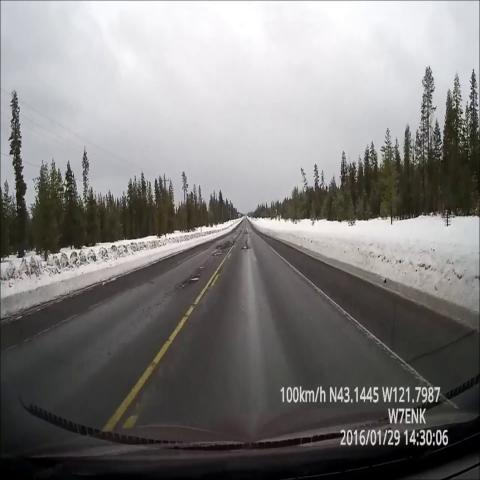pothole: (209, 239, 233, 264), (240, 230, 257, 251), (186, 272, 204, 289)
